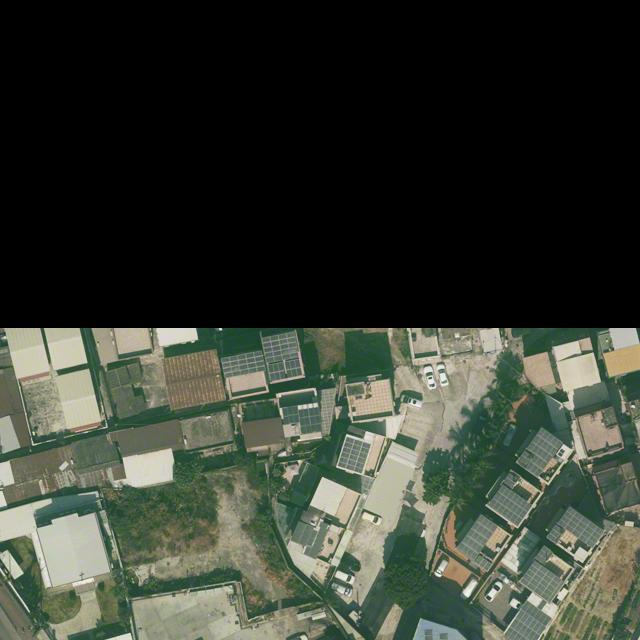panel: (519, 545, 564, 603), (547, 505, 605, 549), (456, 515, 498, 571), (516, 428, 563, 477), (489, 474, 532, 527), (262, 332, 302, 382), (504, 601, 551, 639), (221, 351, 265, 379), (338, 438, 371, 474), (299, 407, 322, 434), (284, 406, 299, 425)
